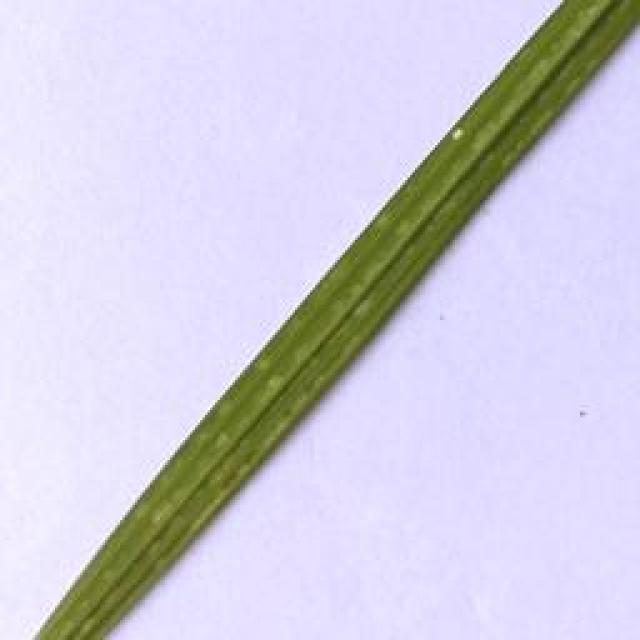Unhealthy: (450, 126, 466, 142)
